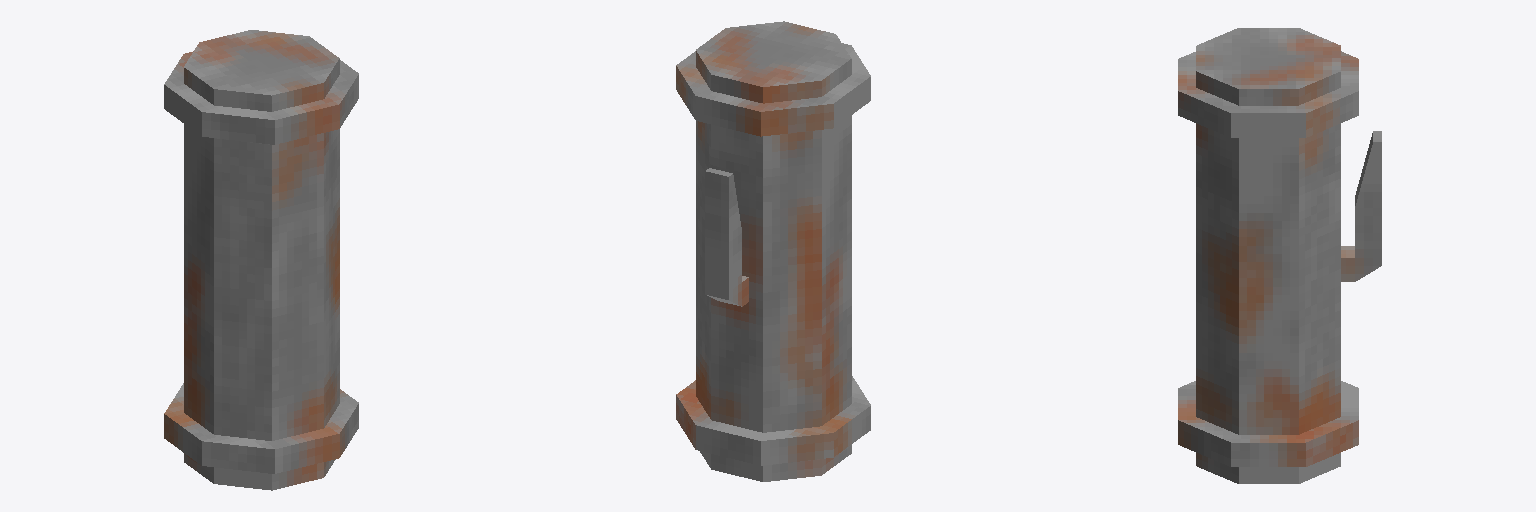
The picture shows the model from 3 angles: view 1: azimuth 30°, elevation 25°; view 2: azimuth 150°, elevation 25°; view 3: azimuth 270°, elevation 25°; orthographic projection.
Parts seen in each view (by area): view 1: cylinder; view 2: cylinder, cuboid; view 3: cylinder, cuboid.
Boxes of the visible parts, x1=… form: cylinder: x1=164, y1=30, x2=358, y2=490; cylinder: x1=676, y1=21, x2=870, y2=481; cuboid: x1=705, y1=168, x2=748, y2=306; cylinder: x1=1178, y1=28, x2=1358, y2=483; cuboid: x1=1341, y1=131, x2=1381, y2=281.
Size of the model in its own units: 1.25 by 3 by 1.41.
1 materials, 1 textured.